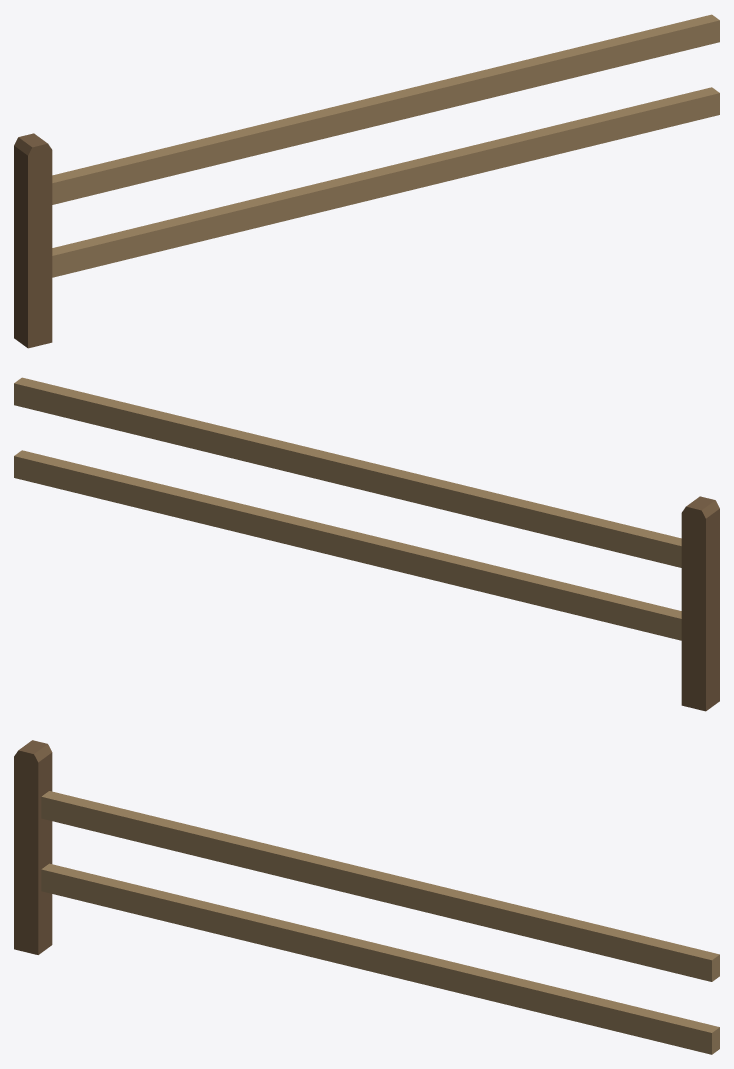
Rendered from TW_WOOD_RAIL_4M_A_LOD0.glb.
The picture shows the model from 3 angles, top to bottom: view 1: azimuth 30°, elevation 25°; view 2: azimuth 150°, elevation 25°; view 3: azimuth 330°, elevation 25°; orthographic projection.
Visible parts, largest first — view 1: TW_WOOD_RAIL_4M_A_LOD0; view 2: TW_WOOD_RAIL_4M_A_LOD0; view 3: TW_WOOD_RAIL_4M_A_LOD0.
Part boxes in pixels (x1,y1,x2,y2): TW_WOOD_RAIL_4M_A_LOD0: (14, 14, 719, 348); TW_WOOD_RAIL_4M_A_LOD0: (14, 377, 719, 711); TW_WOOD_RAIL_4M_A_LOD0: (14, 740, 719, 1054).
Bounding box in the file's own units: 4 × 1.1 × 0.14.
1 material, 1 textured.
